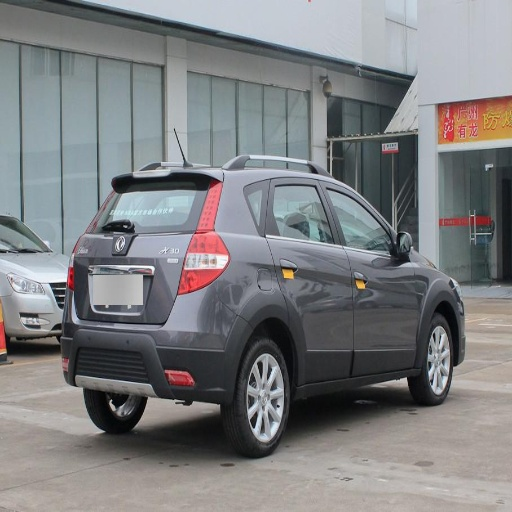back_bumper: (58, 282, 249, 401)
back_right_door: (264, 177, 353, 379)
